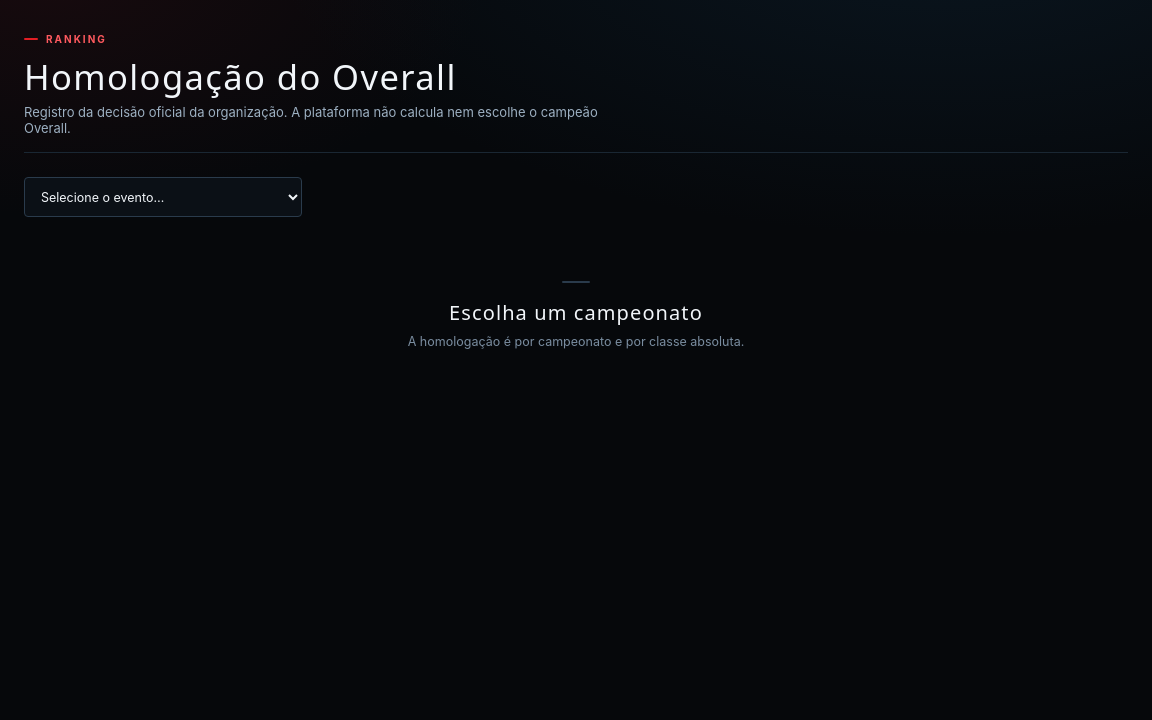
prévia e dupla confirmação › clicar em declarar abre a PRÉVIA, e não homologa nada
The width and height of the screenshot is (1152, 720).
Select "Etapa Cuiabá — Resultados publicados" in the dropdown named "selecionar evento" at coordinates (163, 197), box [24,177,302,217]
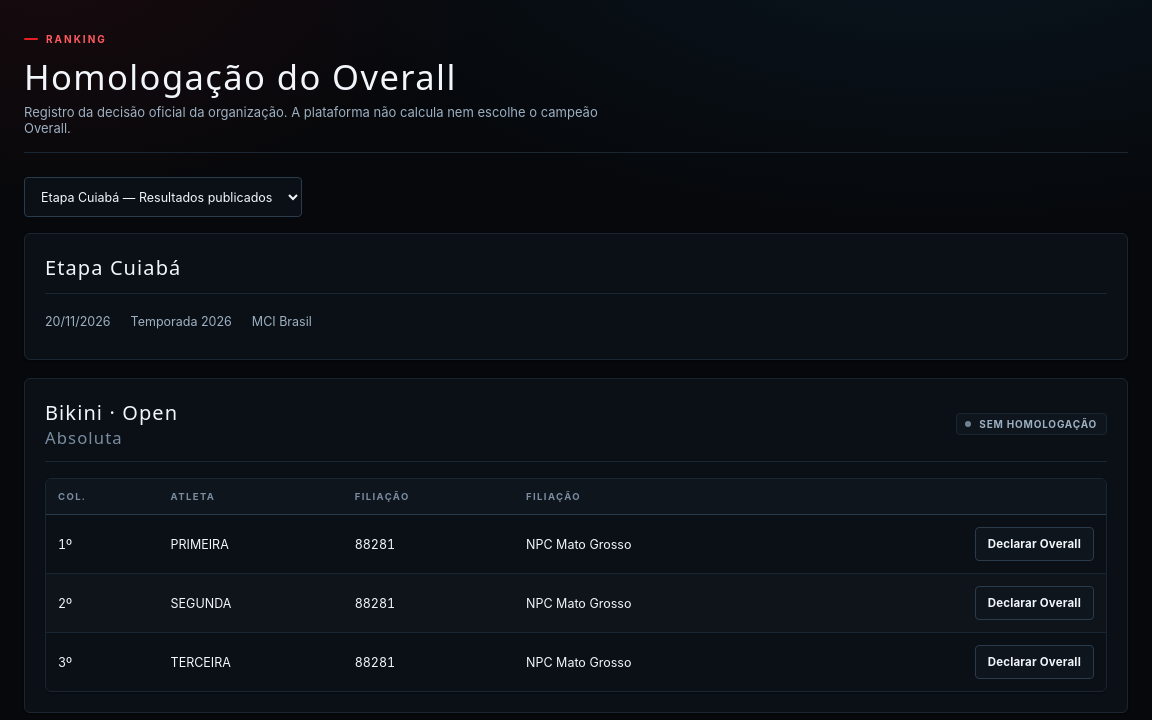
Click the button "Declarar Overall" in the row of "TERCEIRA" at coordinates (1034, 662), box [975,645,1094,679]
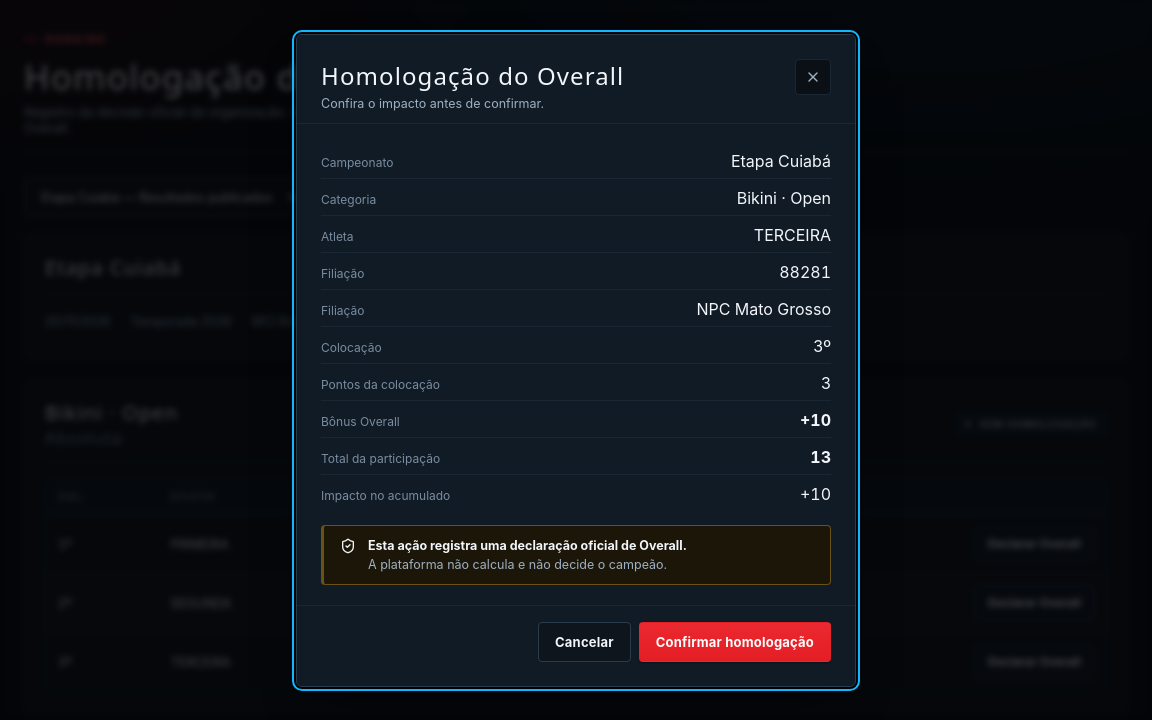
Result: the dialog is shown
